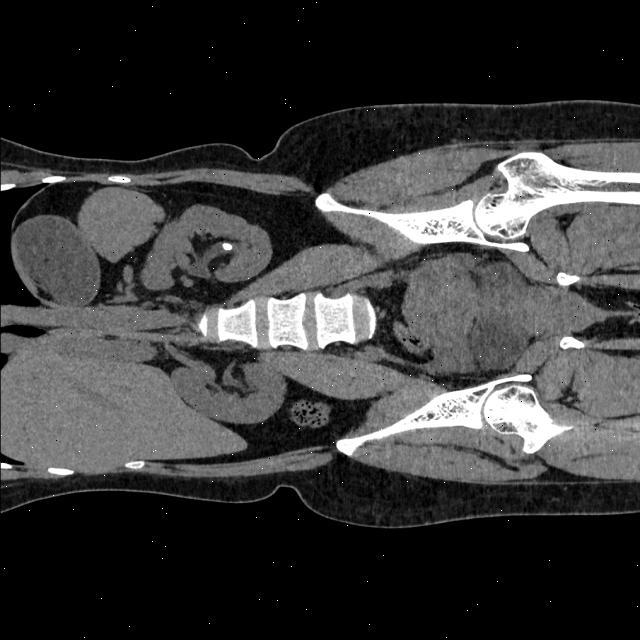kidneystone: (222, 241, 233, 250)
